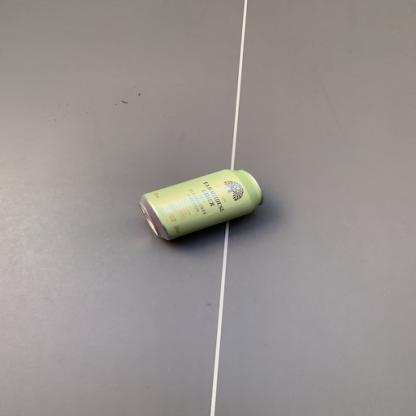trash: (140, 169, 266, 243)
